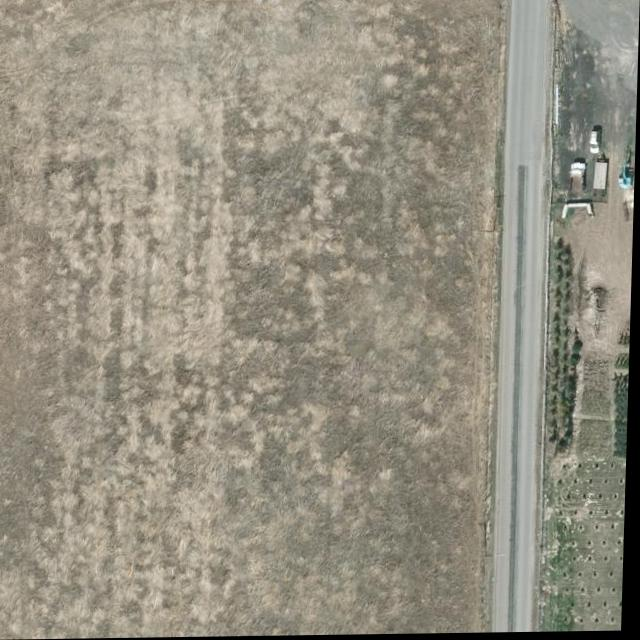vehicle: (570, 165, 587, 197), (590, 133, 603, 155)
